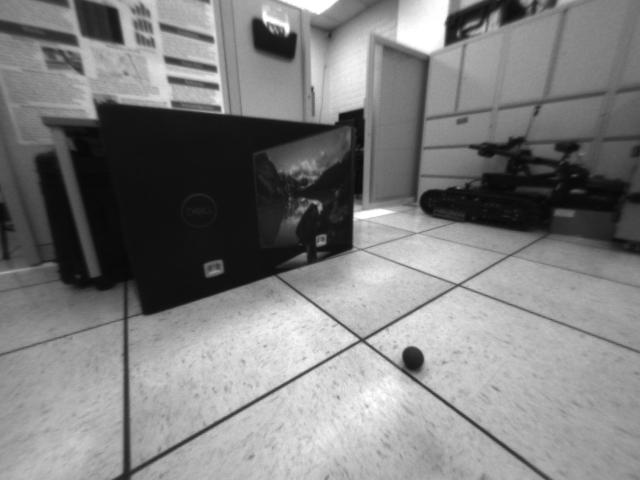dogtoy: (398, 341, 431, 377)
